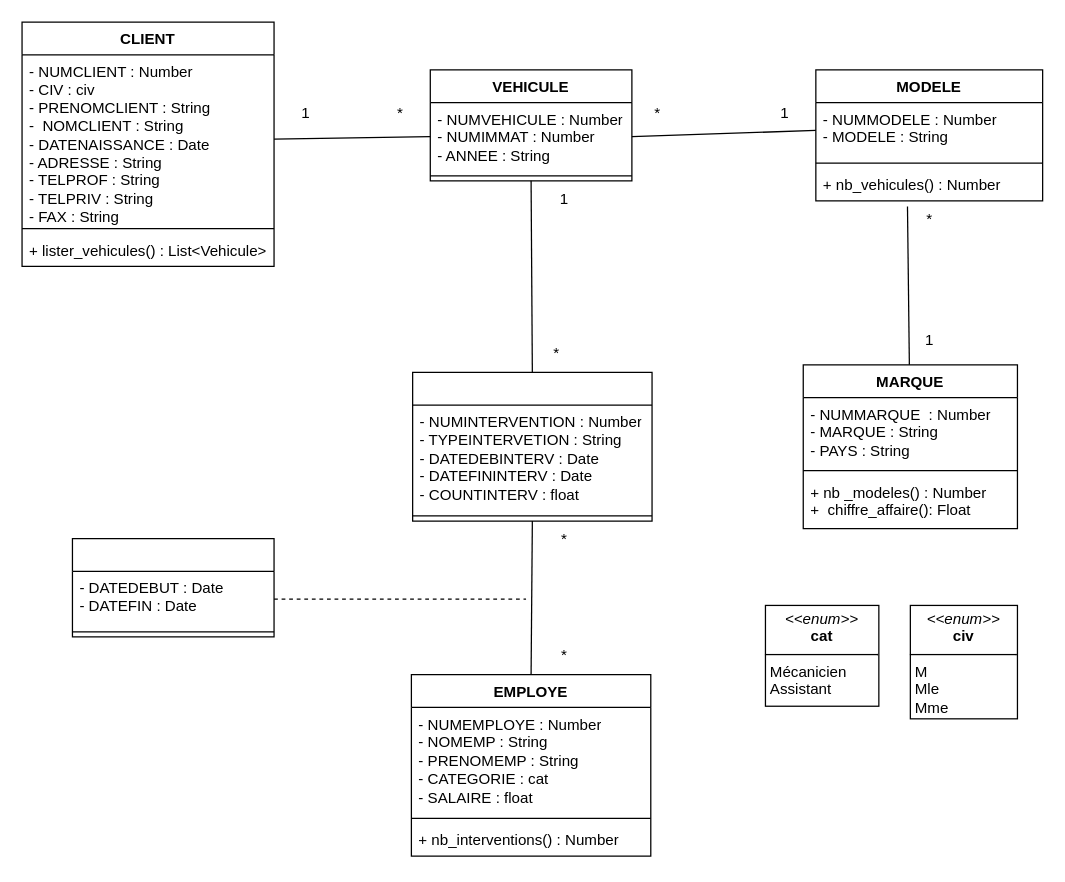
Some shapes in this 1065 by 882 pixel diagram are drawn without their labels. Each missing label, with the box of its shape:
INTERVENANTS: (71, 537, 274, 637)
INTERVENTIONS: (411, 371, 652, 521)
